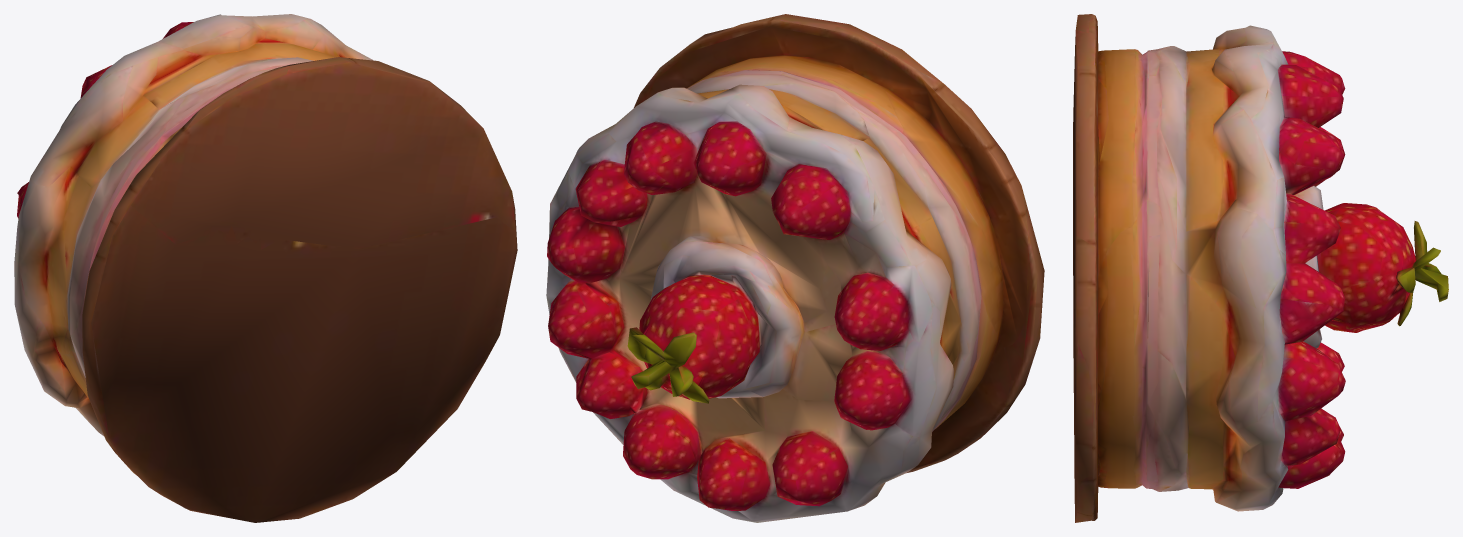
The picture shows the model from 3 angles, left to right: view 1: azimuth 30°, elevation 25°; view 2: azimuth 150°, elevation 25°; view 3: azimuth 270°, elevation 25°; orthographic projection. The views are drawn at different scales.
Visible parts, largest first — view 1: material; view 2: material; view 3: material.
Part boxes in pixels (x1,y1,x2,y2): material: (14,14,517,522); material: (546,14,1044,522); material: (1073,14,1448,522).
Bounding box in the file's own units: 1 × 0.9993 × 0.733.
1 material, 1 textured.
